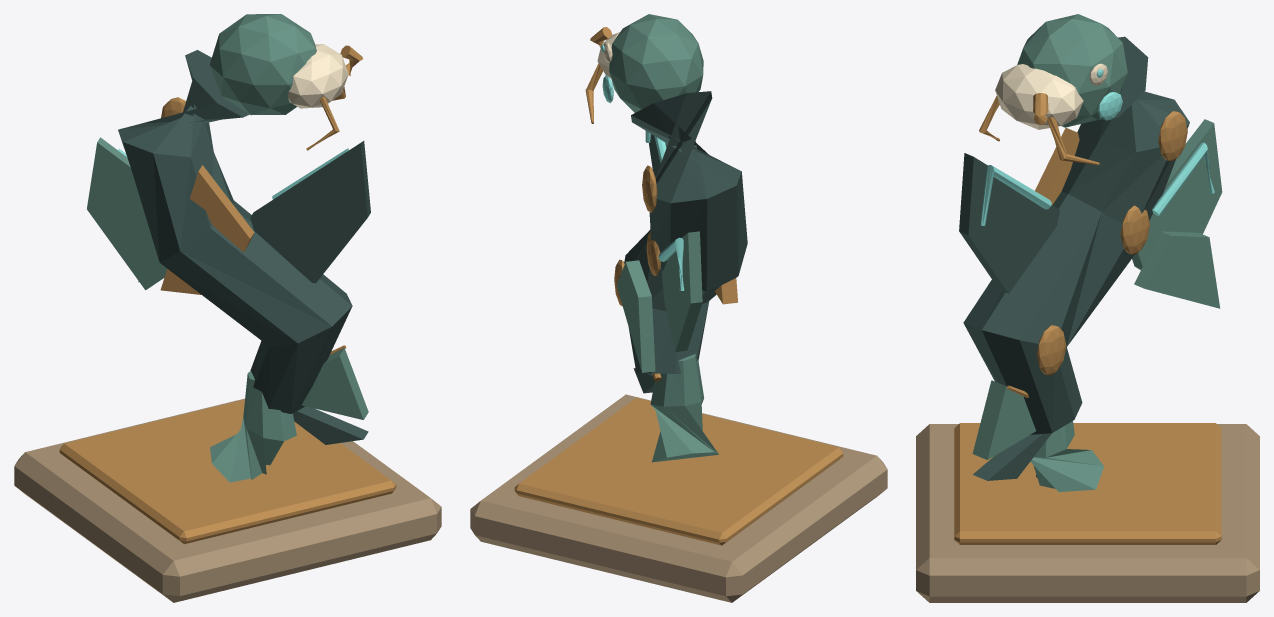
File: Tower_StormCarpL2.fbx
The picture shows the model from 3 angles, left to right: view 1: azimuth 30°, elevation 25°; view 2: azimuth 150°, elevation 25°; view 3: azimuth 270°, elevation 25°; orthographic projection. The views are drawn at different scales.
Visible parts, largest first — view 1: Tower_StormCarpL2; view 2: Tower_StormCarpL2; view 3: Tower_StormCarpL2.
Part boxes in pixels (left/top/right/bottom): Tower_StormCarpL2: left=14, top=14, right=441, bottom=602; Tower_StormCarpL2: left=470, top=14, right=887, bottom=602; Tower_StormCarpL2: left=916, top=14, right=1259, bottom=602.
Bounding box in the file's own units: 0.9 × 1.54 × 0.9.
